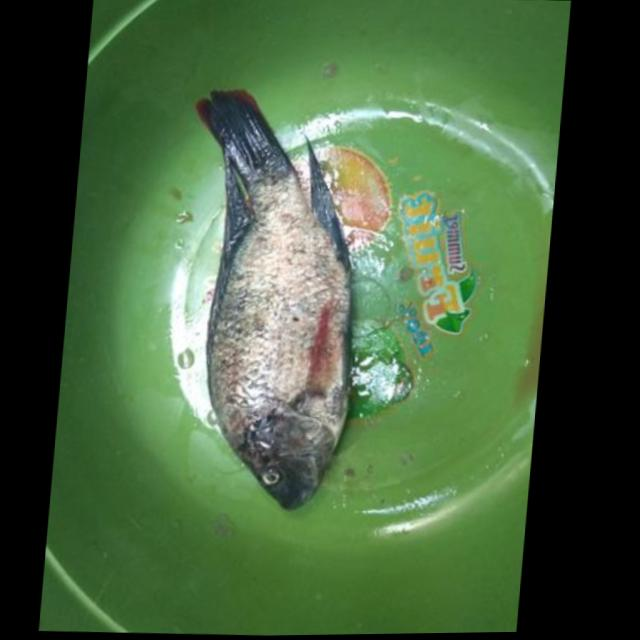Tilapia: (157, 81, 383, 516)
